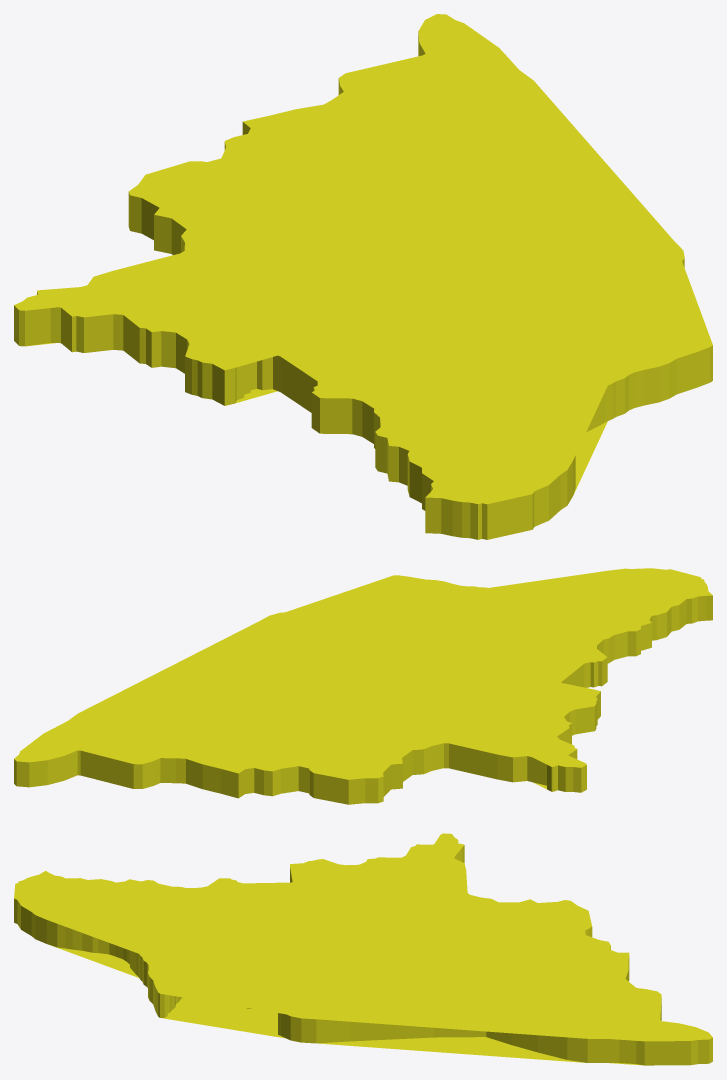
File: tamilNadu.fbx
The picture shows the model from 3 angles, top to bottom: view 1: azimuth 30°, elevation 25°; view 2: azimuth 150°, elevation 25°; view 3: azimuth 270°, elevation 25°; orthographic projection. The views are drawn at different scales.
Visible parts, largest first — view 1: Tamil Nadu; view 2: Tamil Nadu; view 3: Tamil Nadu.
Boxes of the visible parts, x1,y1,x2,y2 form: Tamil Nadu: [14, 14, 712, 539]; Tamil Nadu: [14, 568, 712, 804]; Tamil Nadu: [14, 833, 712, 1065].
Bounding box in the file's own units: 65.92 × 3.57 × 93.64.
